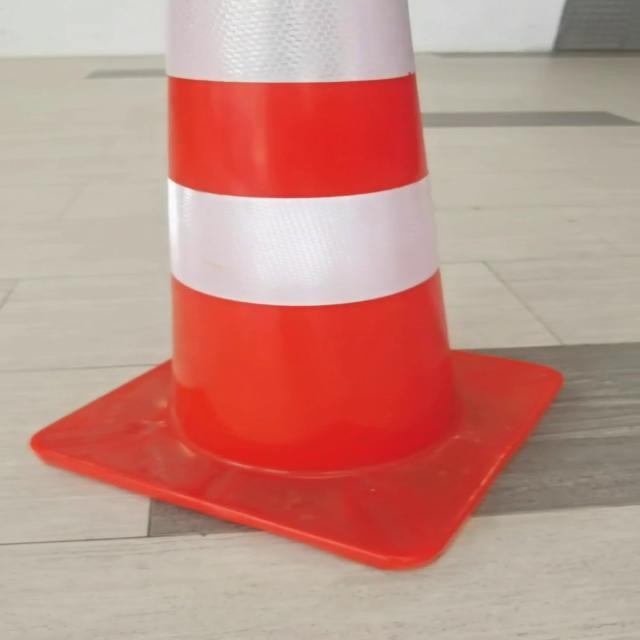cone: (24, 1, 580, 573)
